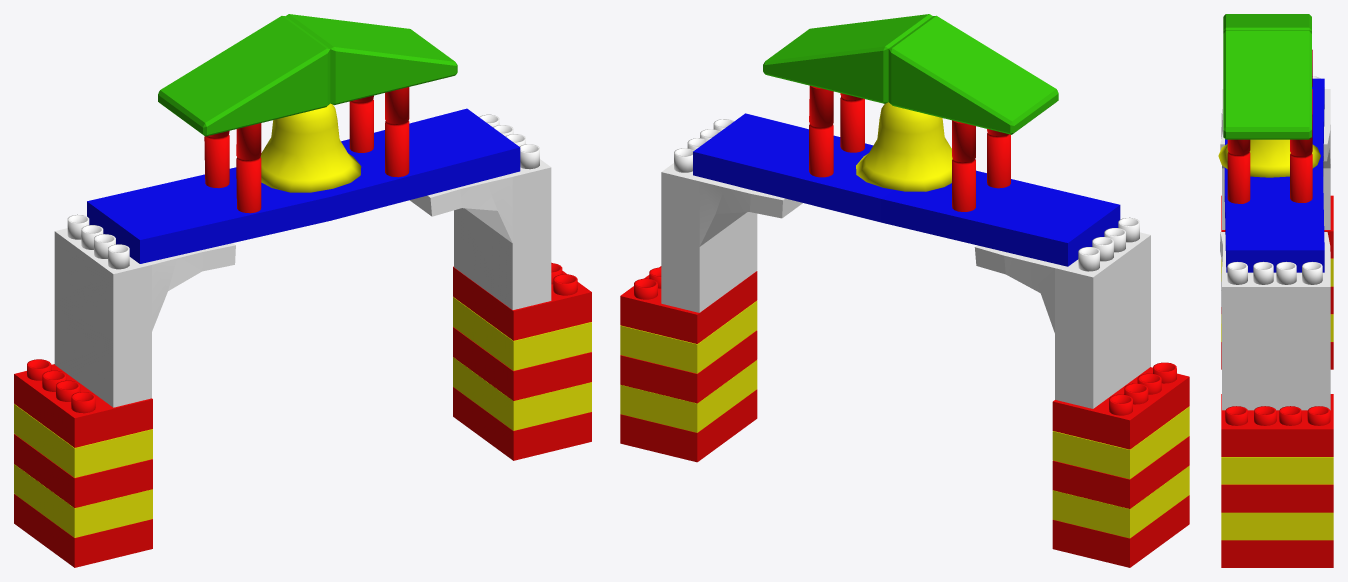
File: ToyTown_Door.FBX
3 views of the same model, side by side, from view 1: azimuth 30°, elevation 25°; view 2: azimuth 150°, elevation 25°; view 3: azimuth 270°, elevation 25° (orthographic). The views are drawn at different scales.
Parts seen in each view (by area): view 1: ToyTown_Door; view 2: ToyTown_Door; view 3: ToyTown_Door.
Boxes of the visible parts, bbox=[...] form: ToyTown_Door: bbox=[14, 14, 591, 567]; ToyTown_Door: bbox=[620, 14, 1189, 567]; ToyTown_Door: bbox=[1218, 14, 1333, 567].
Bounding box in the file's own units: 354 × 73.87 × 298.
